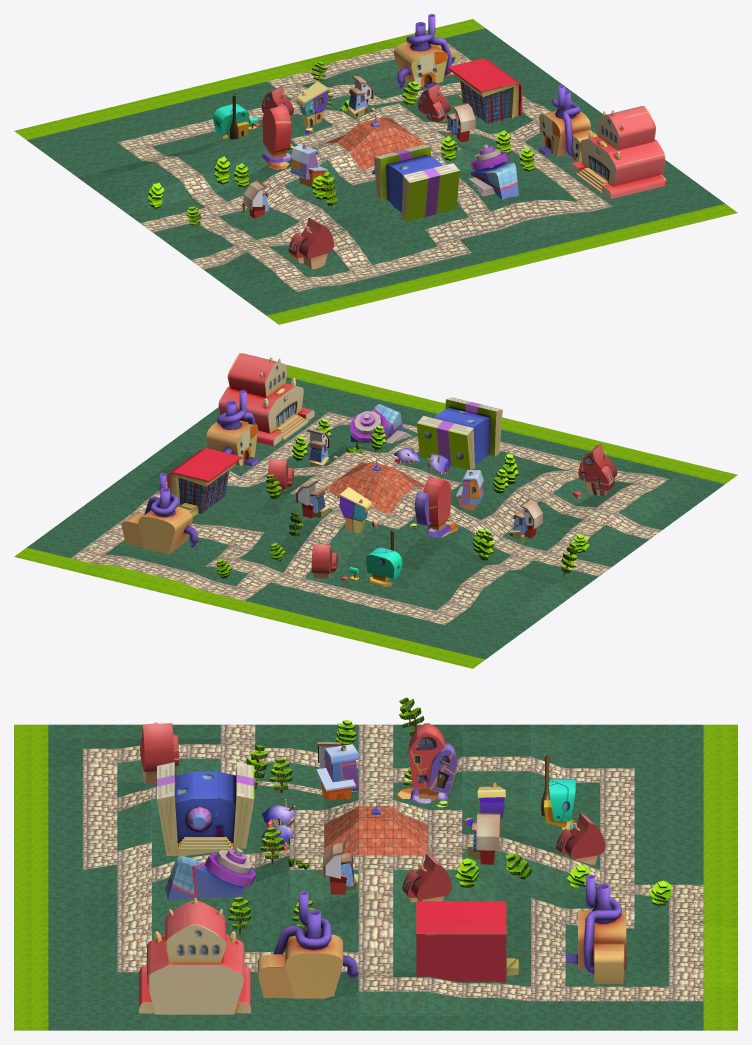
Rendered from Levl_1-1.fbx.
The picture shows the model from 3 angles, top to bottom: view 1: azimuth 30°, elevation 25°; view 2: azimuth 150°, elevation 25°; view 3: azimuth 270°, elevation 25°; orthographic projection. The views are drawn at different scales.
Parts seen in each view (by area): view 1: polySurface171, THEATER, BANK, LIBRARY, FABRIKA, FABRIKA1, GYMNASIUM, New_Dom03, New_Dom010, New_Dom04, New_Dom05, New_Dom01 (+5 smaller); view 2: polySurface171, THEATER, BANK, FABRIKA, LIBRARY, FABRIKA1, New_Dom03, GYMNASIUM, New_Dom010, New_Dom04, New_Dom05, New_Dom09 (+5 smaller); view 3: polySurface171, THEATER, BANK, LIBRARY, FABRIKA1, FABRIKA, GYMNASIUM, New_Dom03, New_Dom01, New_Dom010, New_Dom08, New_Dom04 (+6 smaller).
Boxes of the visible parts, x1,y1,x2,y2 form: polySurface171: (14,19,737,324); THEATER: (570,106,666,198); BANK: (374,144,459,221); LIBRARY: (447,58,522,123); FABRIKA: (393,14,459,88); FABRIKA1: (539,85,597,161); GYMNASIUM: (468,144,518,199); New_Dom03: (261,105,293,169); New_Dom010: (288,217,333,269); New_Dom04: (213,94,258,139); New_Dom05: (296,81,331,133); New_Dom01: (290,144,327,187); polySurface171: (14,364,737,668); THEATER: (218,353,314,445); BANK: (416,397,502,469); FABRIKA: (121,473,197,554); LIBRARY: (167,448,241,516); FABRIKA1: (206,390,258,466); New_Dom03: (409,476,458,537); GYMNASIUM: (350,404,412,444); New_Dom010: (572,444,617,499); New_Dom04: (349,530,402,586); New_Dom05: (337,487,378,533); New_Dom09: (508,499,542,543); polySurface171: (14,724,737,1030); THEATER: (139,897,250,1014); BANK: (157,762,254,856); LIBRARY: (416,901,518,982); FABRIKA1: (257,891,357,998); FABRIKA: (565,875,626,983); GYMNASIUM: (165,848,256,900); New_Dom03: (395,723,457,807); New_Dom01: (316,744,358,800); New_Dom010: (140,722,178,784); New_Dom08: (402,854,451,902); New_Dom04: (541,755,575,830).
Size of the model in its own units: 504 by 79.58 by 504.
